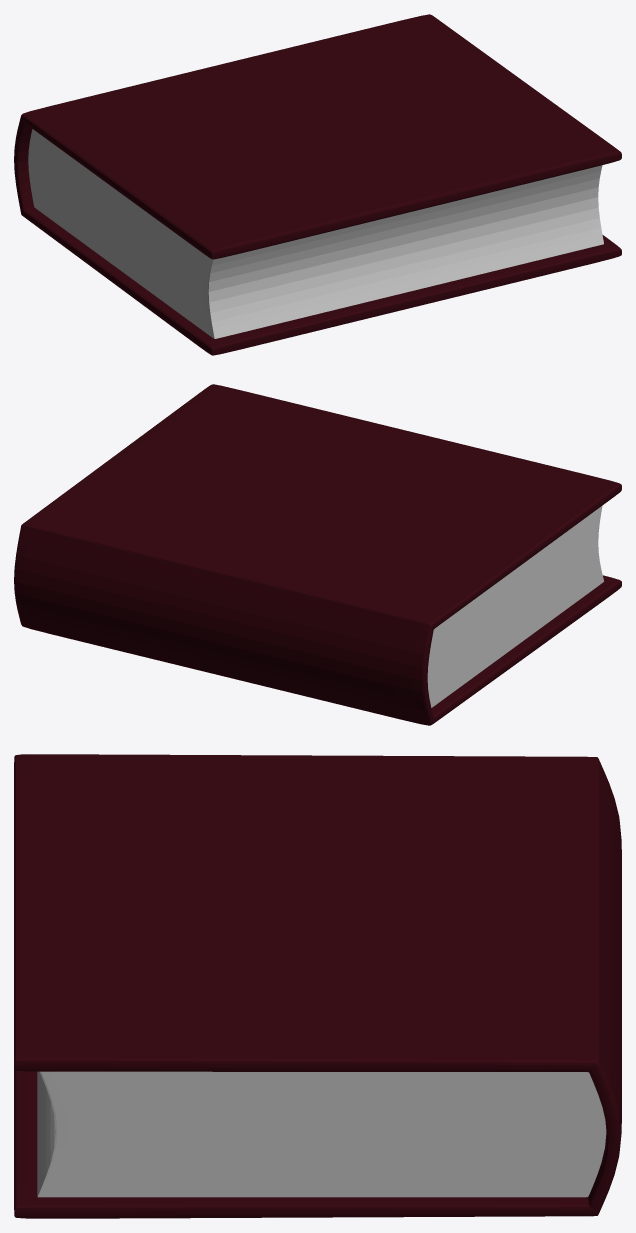
The model's file is Bookfuchsia.obj.
3 renders of one model, top to bottom at view 1: azimuth 30°, elevation 25°; view 2: azimuth 150°, elevation 25°; view 3: azimuth 270°, elevation 25°, orthographic. The views are drawn at different scales.
Visible parts, largest first — view 1: Cube, Cube.001; view 2: Cube, Cube.001; view 3: Cube, Cube.001.
Boxes of the visible parts, x1,y1,x2,y2 form: Cube: [14, 14, 621, 355]; Cube.001: [28, 129, 603, 338]; Cube: [14, 384, 621, 725]; Cube.001: [427, 506, 603, 707]; Cube: [14, 754, 621, 1218]; Cube.001: [37, 1071, 606, 1197].
Bounding box in the file's own units: 2 × 0.4962 × 1.67.
